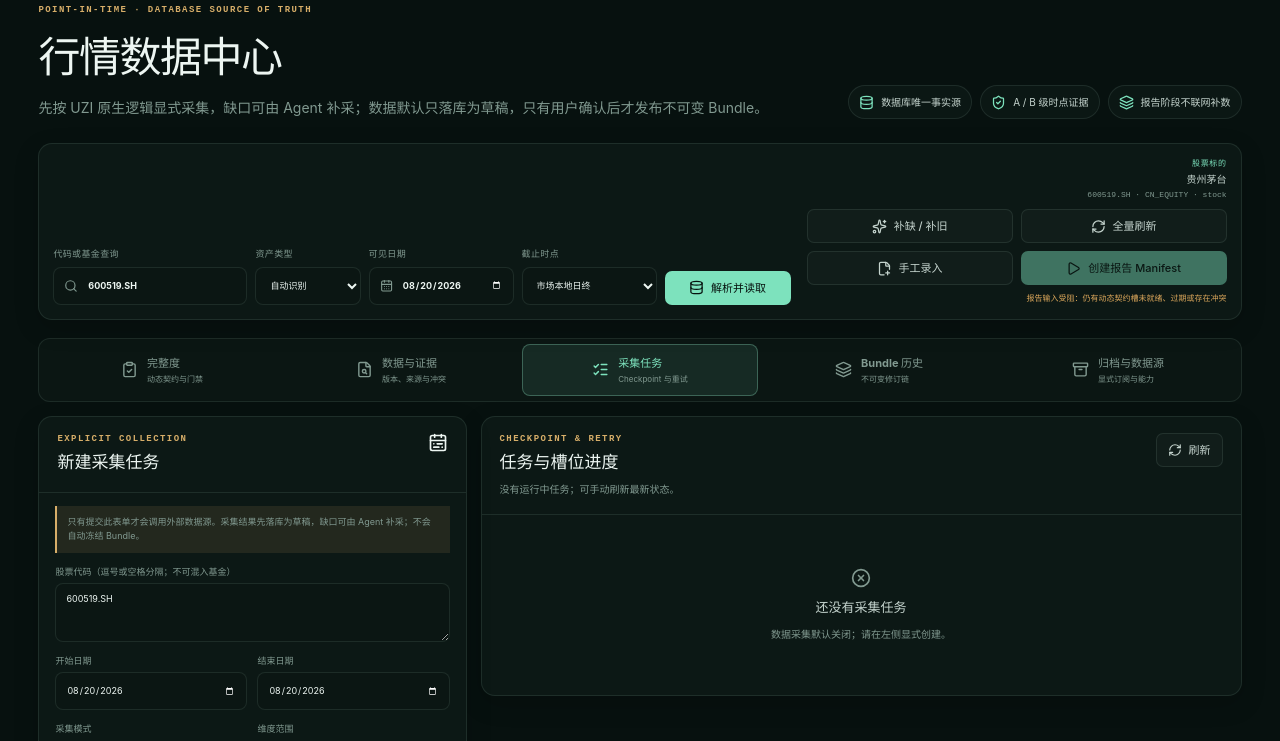
it: MarketDataCenter › blocks a mixed equity and fund batch before collection job creation
This screenshot has width=1280, height=741.
Step 1. Replace the text in the text box labelled "股票代码（逗号或空格分隔；不可混入基金）" with "600519.SH, 020464" → (252, 612), box [55,583,450,642]
(page scrolled)
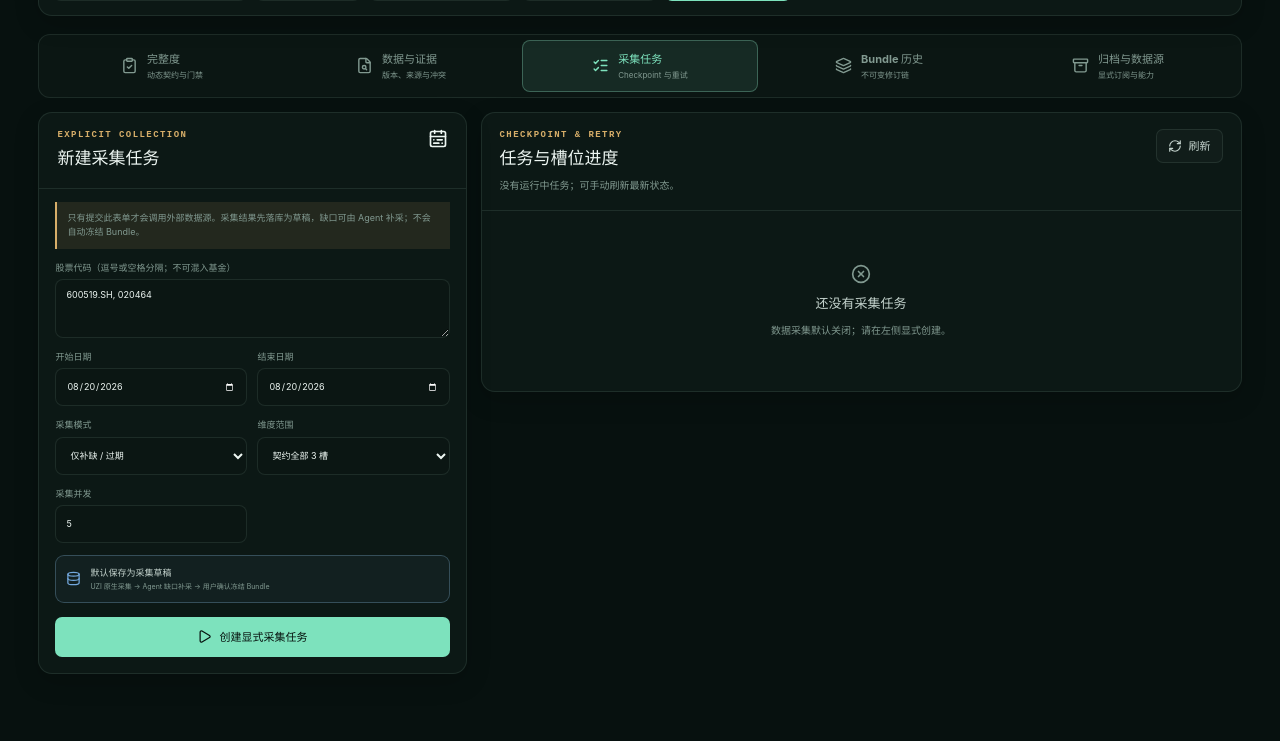
Step 2. Click the button "创建显式采集任务" → (252, 637), box [55,617,450,657]
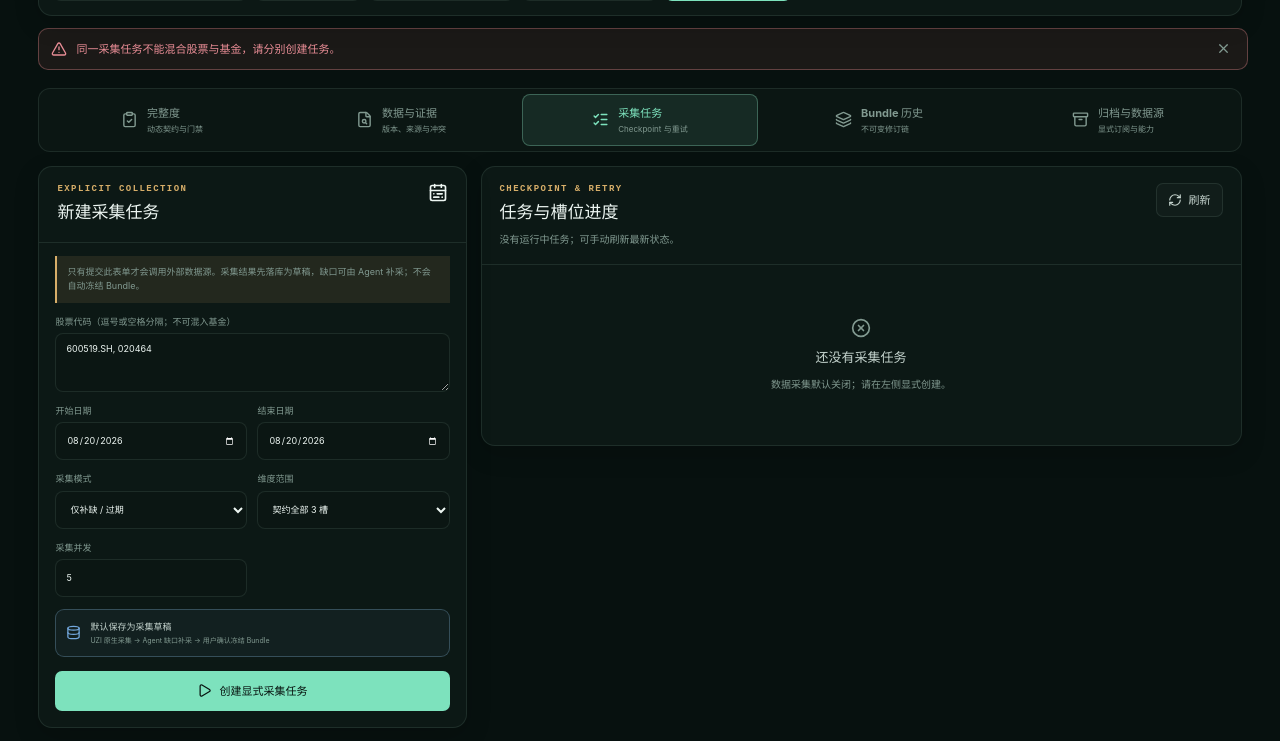
Now the text "同一采集任务不能混合股票与基金，请分别创建任务。" is shown, box [76,41,340,57]
